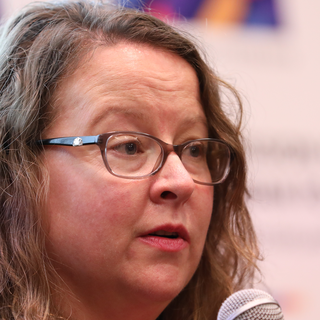eye: (103, 134, 146, 160), (178, 138, 206, 162)
